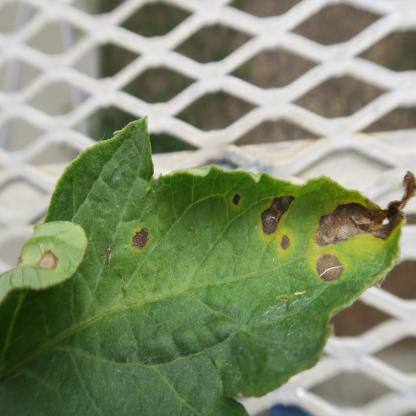tomato early blight leaf: (0, 122, 398, 404)
